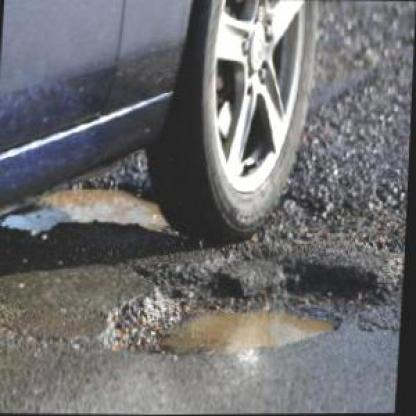pothole: (101, 254, 390, 364)
